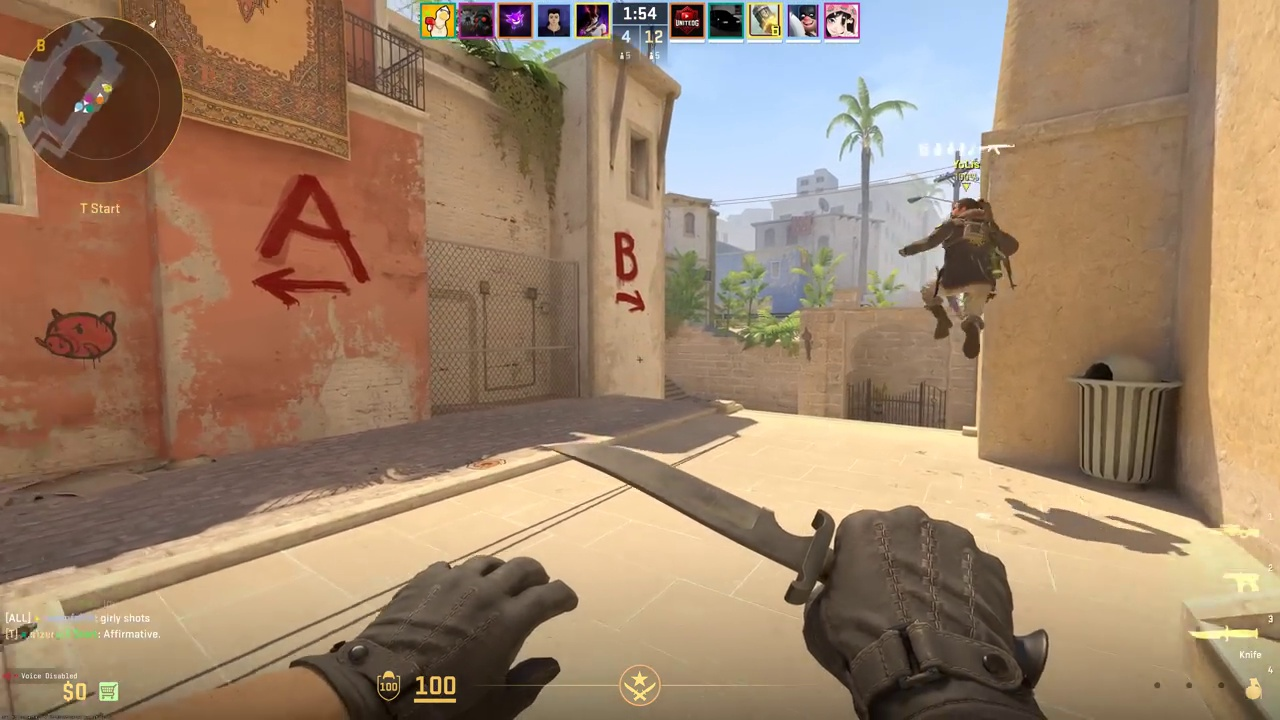Terrorist: (917, 197, 1011, 359)
